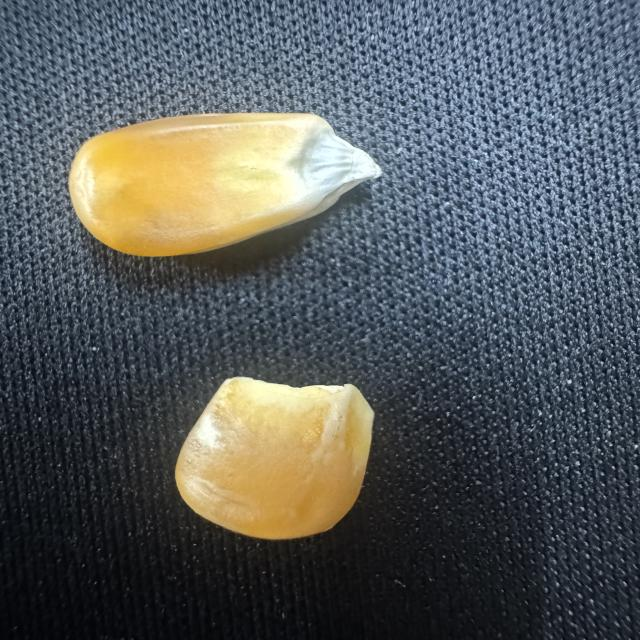Bad-Seed: (168, 366, 386, 542)
Good-Seed: (55, 102, 394, 264)
